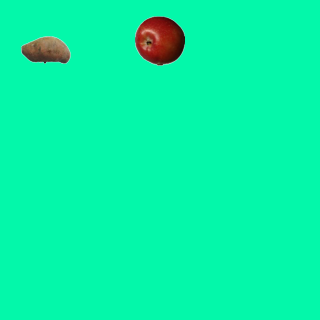Apple Braeburn: (134, 15, 184, 65)
Potato Sweet: (20, 24, 70, 74)
